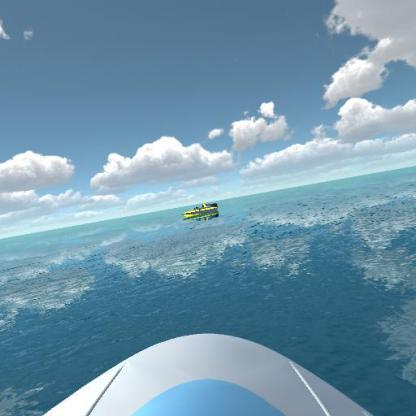usv2: (176, 198, 224, 224)
